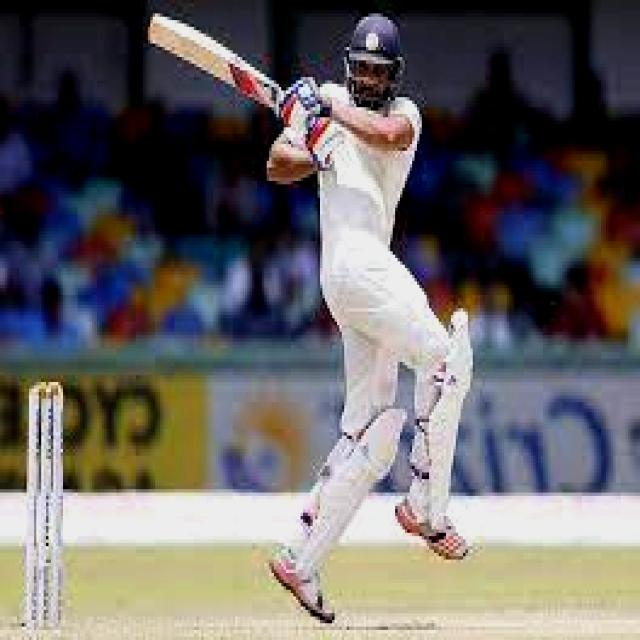toe: (144, 3, 168, 54)
